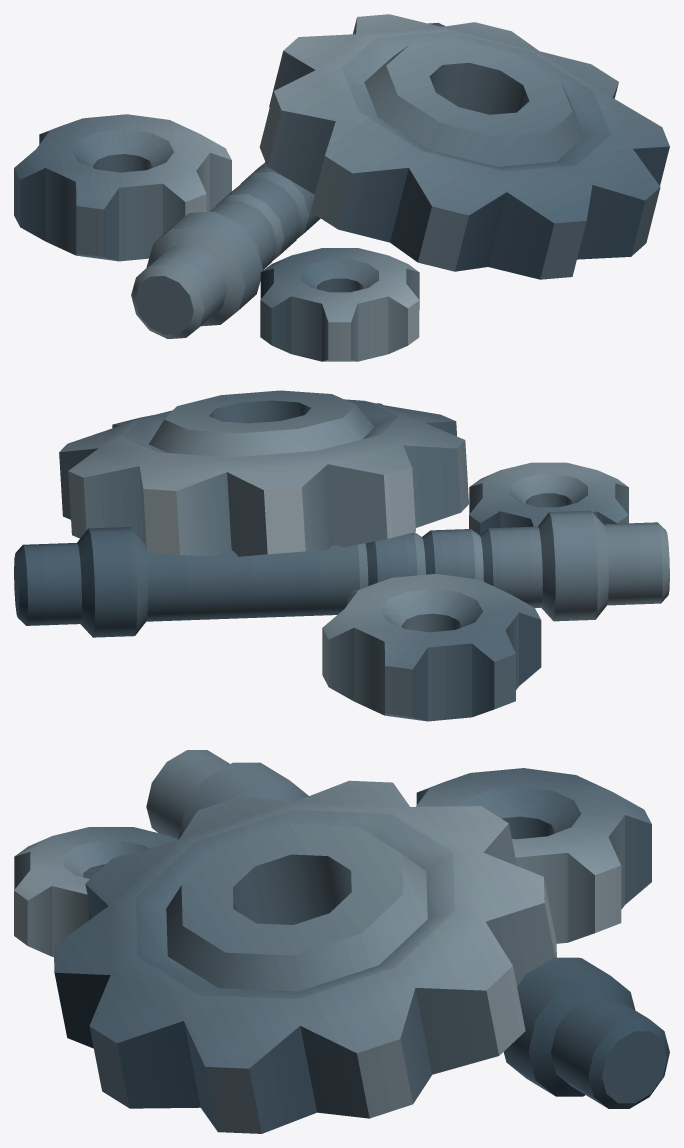
Rendered from kk_parts_pile_small.glb.
3 renders of one model, top to bottom at view 1: azimuth 30°, elevation 25°; view 2: azimuth 150°, elevation 25°; view 3: azimuth 270°, elevation 25°, orthographic. The views are drawn at different scales.
Visible parts, largest first — view 1: Parts_Pile_Small; view 2: Parts_Pile_Small; view 3: Parts_Pile_Small.
Boxes of the visible parts, x1,y1,x2,y2 form: Parts_Pile_Small: [14, 14, 669, 361]; Parts_Pile_Small: [14, 390, 669, 721]; Parts_Pile_Small: [14, 750, 669, 1133].
Bounding box in the file's own units: 0.5 × 0.1447 × 0.4289.
1 material, 1 textured.
